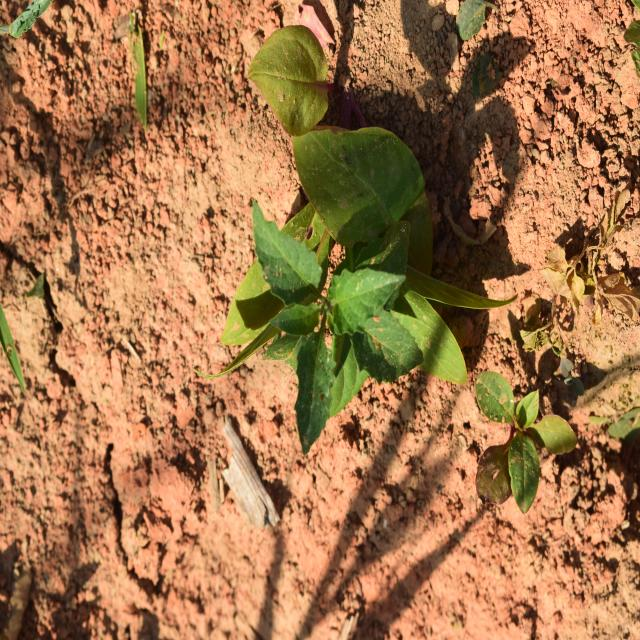Black_nightshade: (255, 215, 422, 442)
